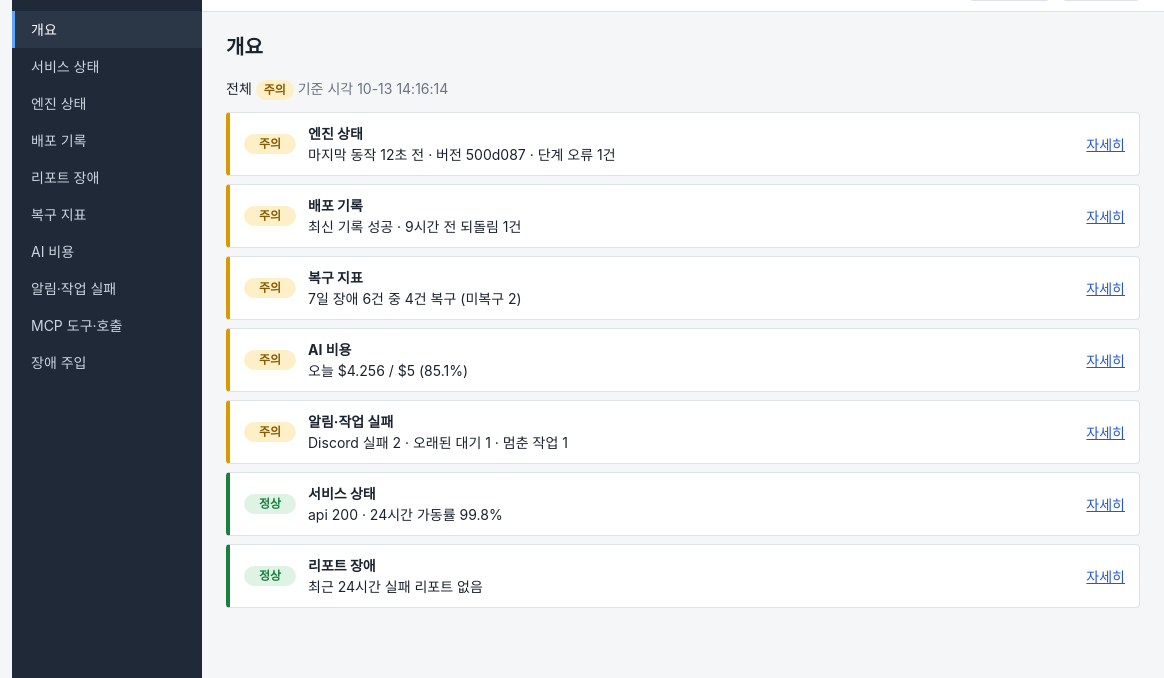
Test: 장애 주입 (F11) › 메뉴의 장애 주입을 누르면 /chaos 화면이 열린다
Click the link "장애 주입". click: (59, 362)
box: [31,354,86,371]
(page scrolled)
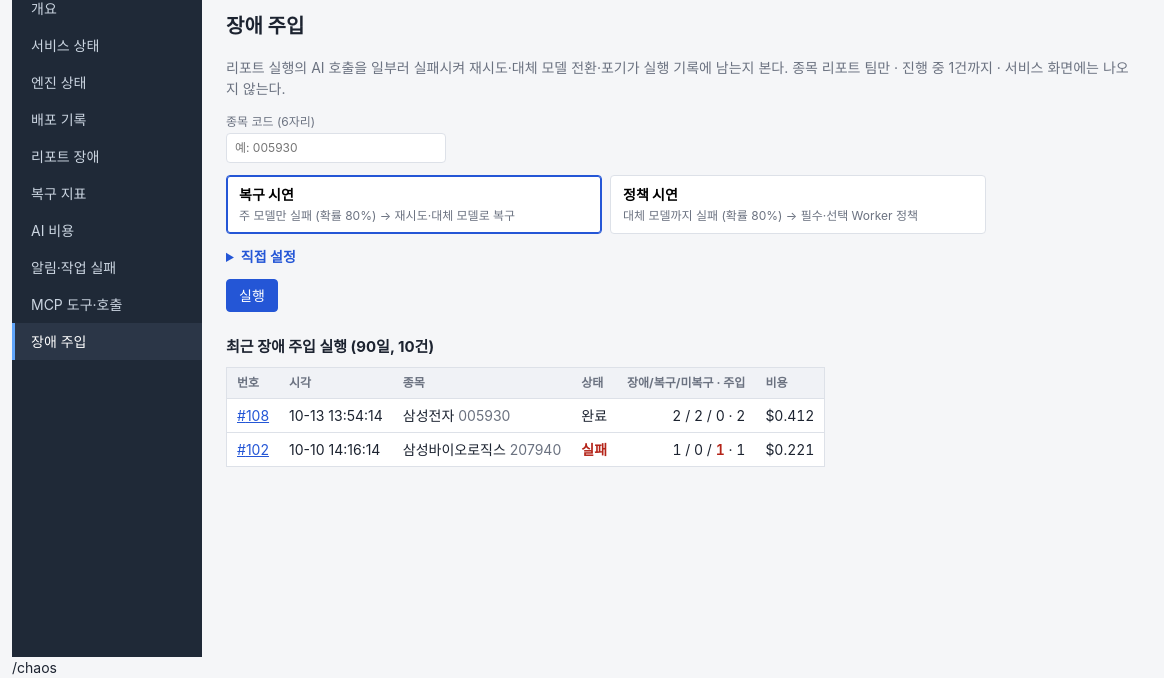
Expected: the heading "장애 주입" is shown, [226,11,304,41]
Expected: the text with test id "location" reads "/chaos", [12,659,57,676]
